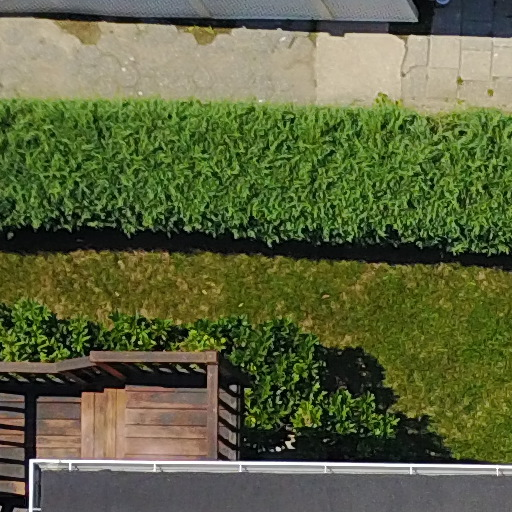porch: (1, 293, 341, 504)
